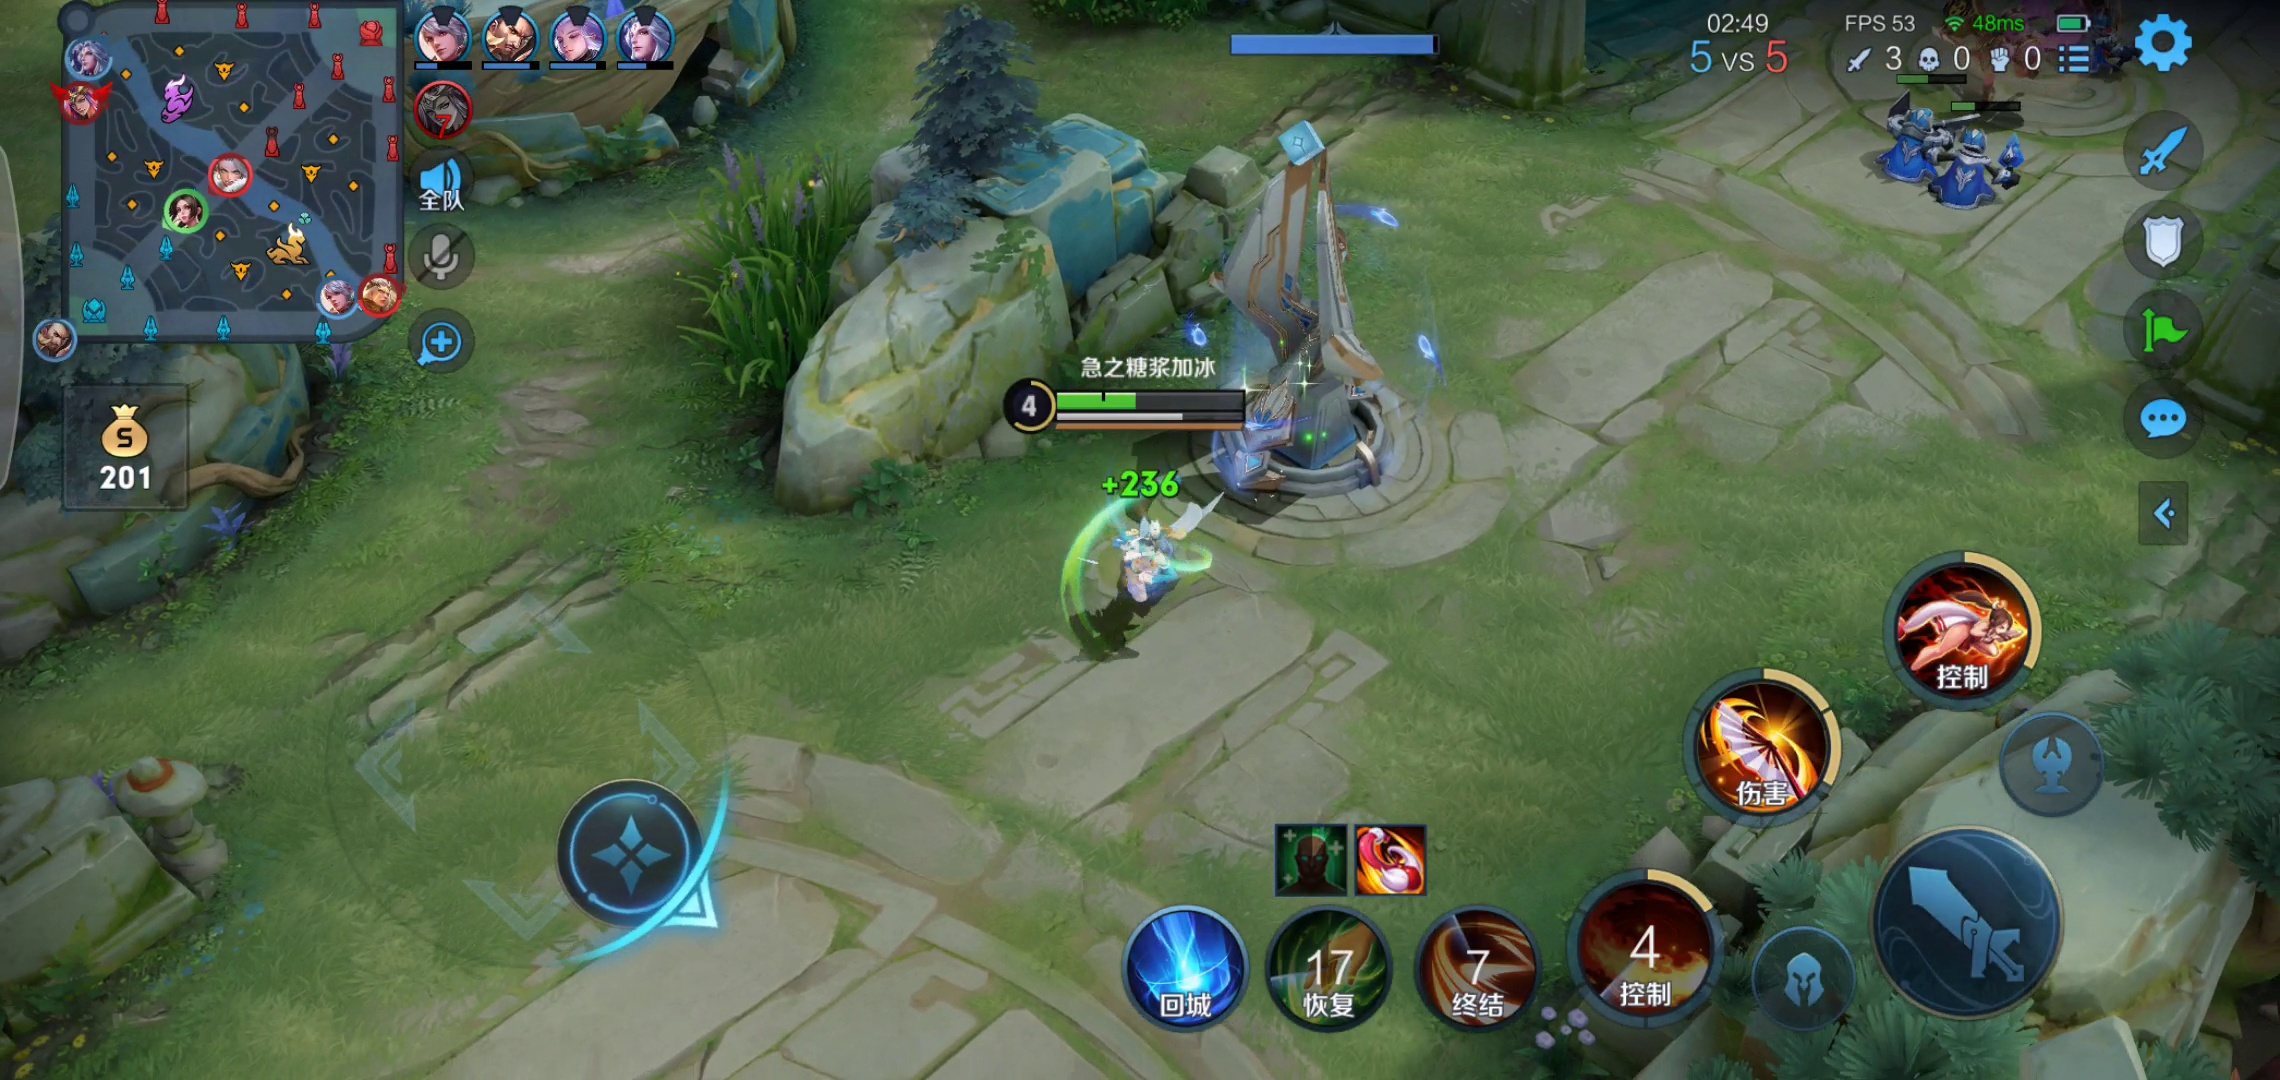grass: (683, 140, 883, 406)
hero: (1051, 488, 1219, 628)
soldier: (1937, 116, 2020, 215), (1871, 90, 1940, 180)
tower: (1216, 129, 1450, 496)
